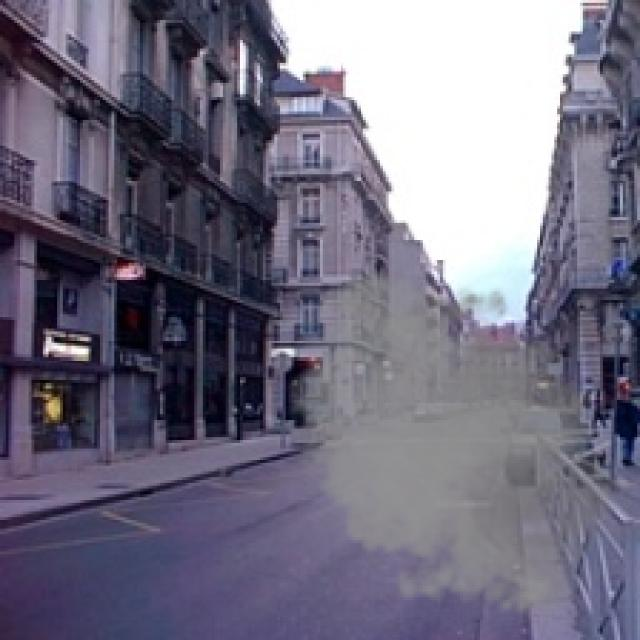smoke: (277, 266, 637, 628)
